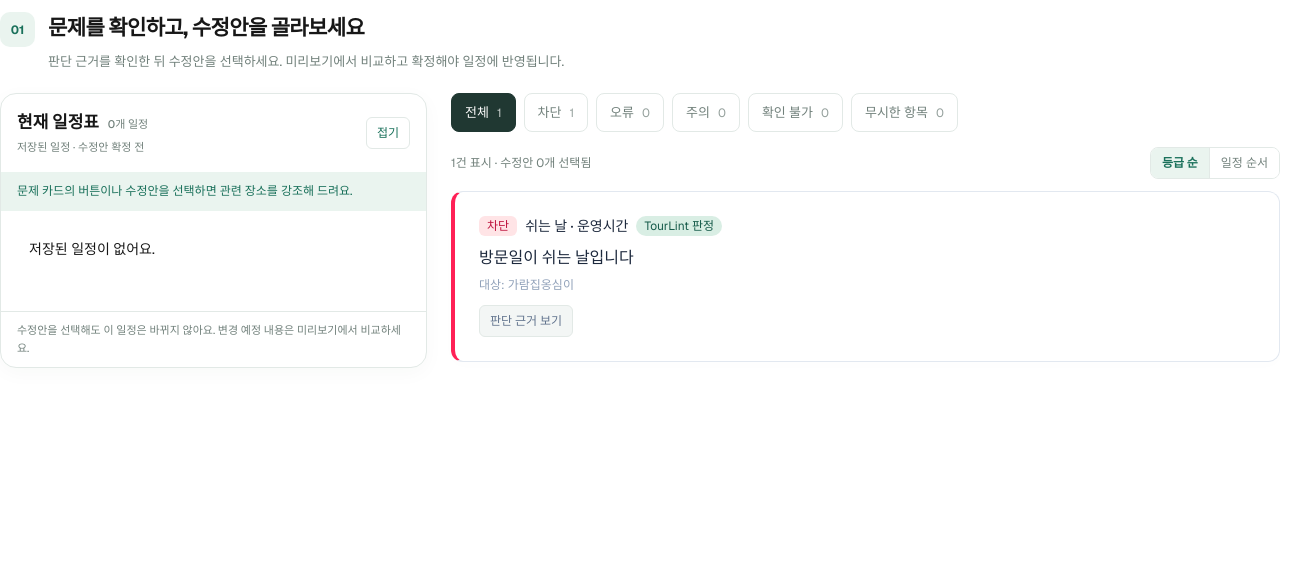
Test case: 판단 근거의 공사 원문 › Type1 · 값 없음에는 붙이지 않는다 (EI-KT-017)
The width and height of the screenshot is (1292, 583).
Click the button "판단 근거 보기". click: x=526, y=321
box: [479,305,573,337]
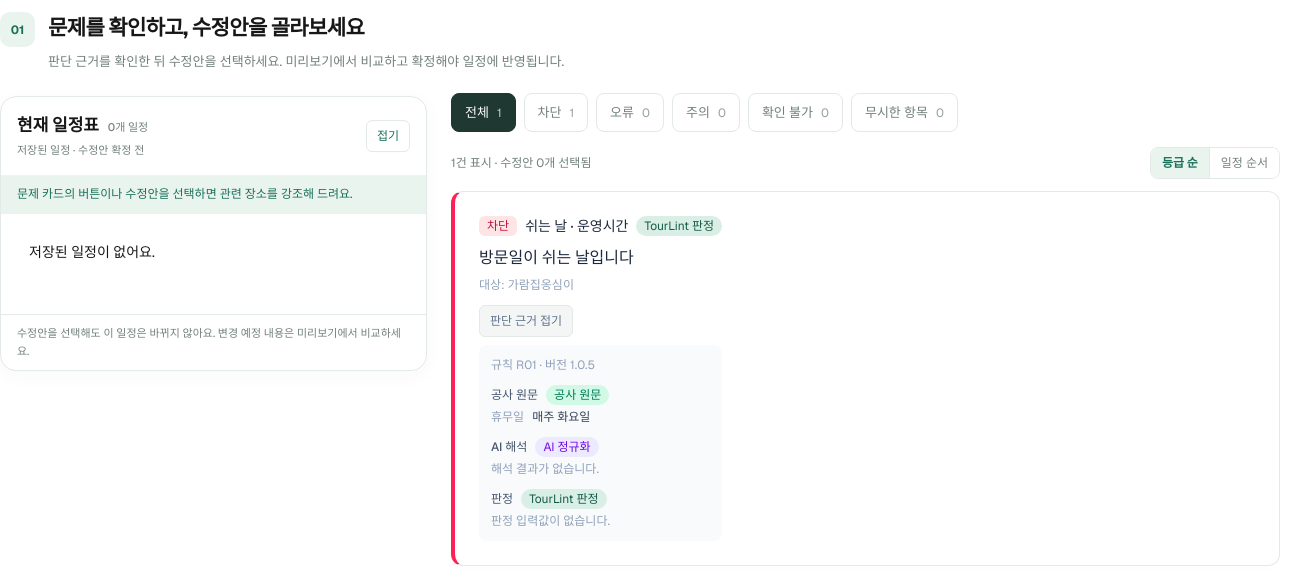
expect the element showing "공사 원문 공사 원문 휴무일 매주 화요일" is shown: met, box [491,385,609,425]
